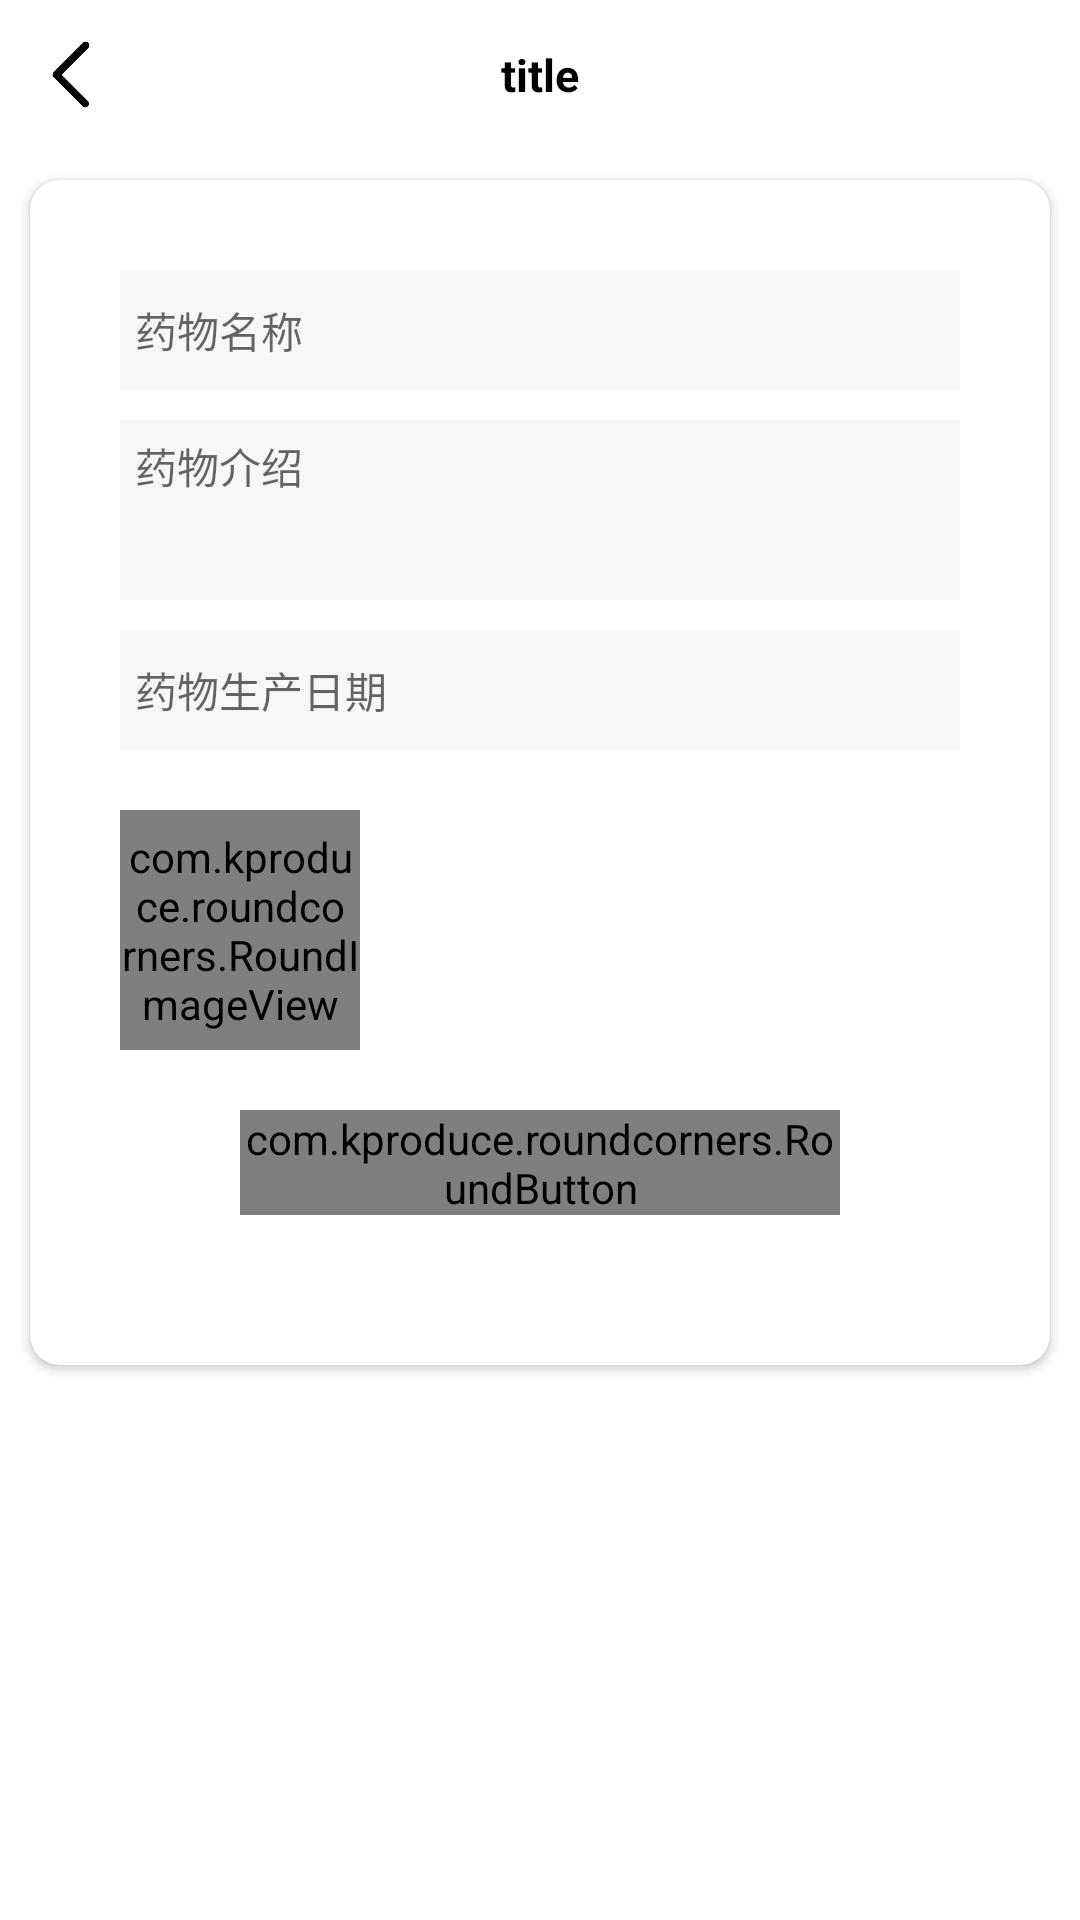

Icons on this 1080w x 1920h Android screen, each with its box as (x1, y1, x2, y2):
arrow left: (52, 41, 90, 108)
